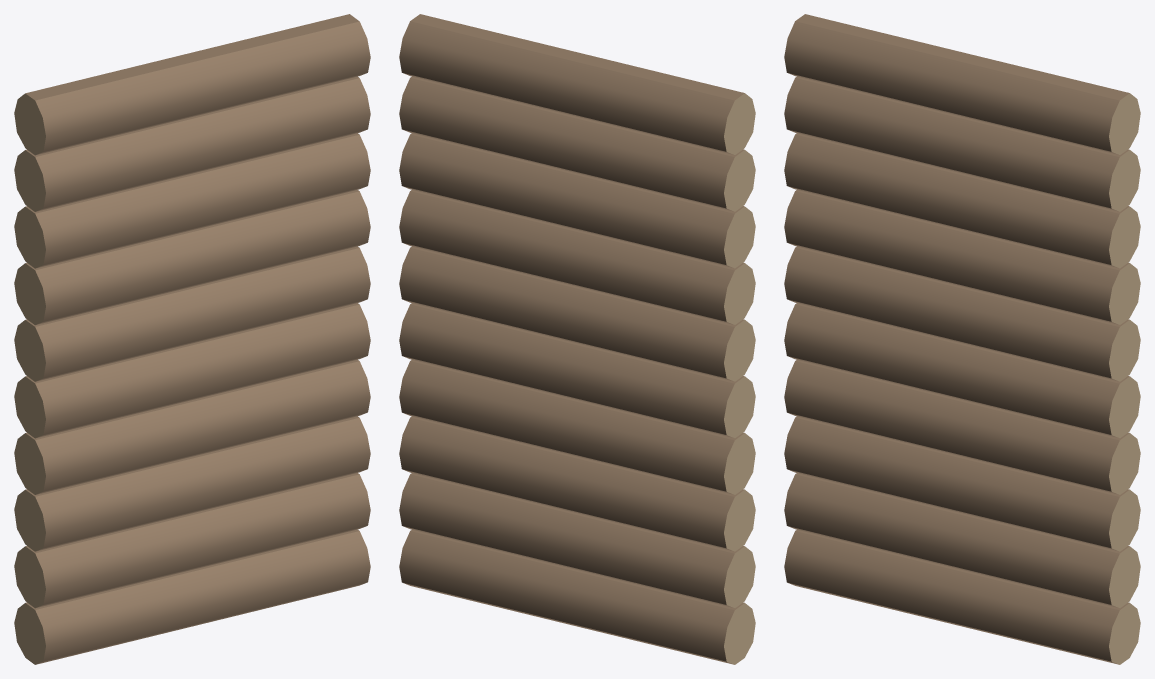
File: log_wall_narrow.glb
3 views of the same model, side by side, from view 1: azimuth 30°, elevation 25°; view 2: azimuth 150°, elevation 25°; view 3: azimuth 330°, elevation 25° (orthographic).
Visible parts, largest first — view 1: Wall; view 2: Wall; view 3: Wall.
Boxes of the visible parts, x1,y1,x2,y2 form: Wall: (14,14,370,664); Wall: (399,14,755,664); Wall: (784,14,1140,664).
Size of the model in its own units: 1.8 by 2.99 by 0.307.
